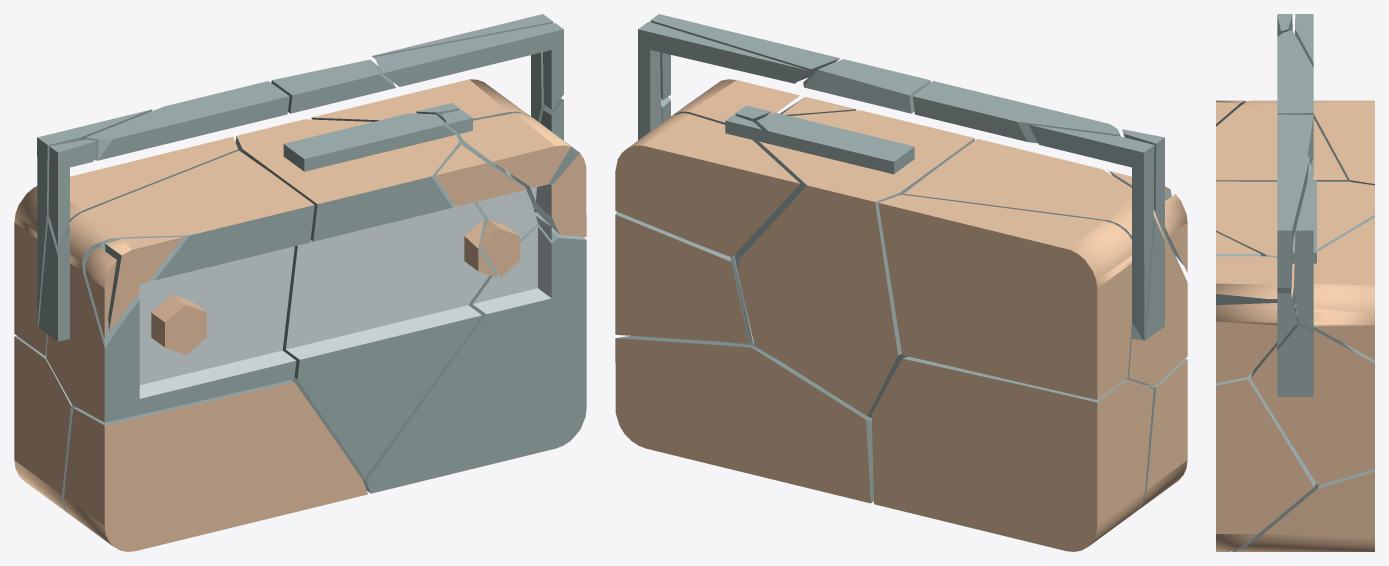
Rendered from radio_broken.glb.
The picture shows the model from 3 angles, left to right: view 1: azimuth 30°, elevation 25°; view 2: azimuth 150°, elevation 25°; view 3: azimuth 270°, elevation 25°; orthographic projection. The views are drawn at different scales.
Parts seen in each view (by area): view 1: radio(Clone)_cell.002, radio(Clone)_cell.005, radio(Clone)_cell.004, radio(Clone)_cell.009, radio(Clone)_cell.001, radio(Clone)_cell.012, radio(Clone)_cell.017, radio(Clone)_cell.014, radio(Clone)_cell.007, radio(Clone)_cell.008, radio(Clone)_cell, radio(Clone)_cell.010 (+4 smaller); view 2: radio(Clone)_cell.001, radio(Clone)_cell.012, radio(Clone)_cell.002, radio(Clone)_cell.006, radio(Clone)_cell.007, radio(Clone)_cell.005, radio(Clone)_cell.011, radio(Clone)_cell.017, radio(Clone)_cell.004, radio(Clone)_cell.015, radio(Clone)_cell.014, radio(Clone)_cell (+3 smaller); view 3: radio(Clone)_cell.011, radio(Clone)_cell.009, radio(Clone)_cell.007, radio(Clone)_cell.002, radio(Clone)_cell.006, radio(Clone)_cell.005, radio(Clone)_cell.010, radio(Clone)_cell.001, radio(Clone)_cell, radio(Clone)_cell.014, radio(Clone)_cell.017, radio(Clone)_cell.015 (+3 smaller).
Part boxes in pixels (<box>): radio(Clone)_cell.002: <box>235,113,498,477</box>; radio(Clone)_cell.005: <box>38,150,314,422</box>; radio(Clone)_cell.004: <box>64,380,367,551</box>; radio(Clone)_cell.009: <box>358,212,586,493</box>; radio(Clone)_cell.001: <box>14,109,238,355</box>; radio(Clone)_cell.012: <box>14,336,75,513</box>; radio(Clone)_cell.017: <box>85,81,289,160</box>; radio(Clone)_cell.014: <box>374,23,563,109</box>; radio(Clone)_cell.007: <box>311,14,553,122</box>; radio(Clone)_cell.008: <box>436,144,551,276</box>; radio(Clone)_cell: <box>442,110,570,187</box>; radio(Clone)_cell.010: <box>509,98,586,237</box>; radio(Clone)_cell.001: <box>878,124,1154,399</box>; radio(Clone)_cell.012: <box>871,356,1153,551</box>; radio(Clone)_cell.002: <box>734,110,974,417</box>; radio(Clone)_cell.006: <box>615,336,873,503</box>; radio(Clone)_cell.007: <box>615,21,809,257</box>; radio(Clone)_cell.005: <box>903,139,1187,386</box>; radio(Clone)_cell.011: <box>615,212,749,343</box>; radio(Clone)_cell.017: <box>913,81,1120,143</box>; radio(Clone)_cell.004: <box>1133,359,1187,513</box>; radio(Clone)_cell.015: <box>803,59,930,113</box>; radio(Clone)_cell.014: <box>650,14,839,99</box>; radio(Clone)_cell: <box>673,79,799,124</box>; radio(Clone)_cell.011: <box>1250,307,1374,485</box>; radio(Clone)_cell.009: <box>1216,371,1315,551</box>; radio(Clone)_cell.007: <box>1294,158,1374,359</box>; radio(Clone)_cell.002: <box>1216,180,1374,351</box>; radio(Clone)_cell.006: <box>1231,469,1374,551</box>; radio(Clone)_cell.005: <box>1216,100,1347,181</box>; radio(Clone)_cell.010: <box>1216,293,1296,383</box>; radio(Clone)_cell.001: <box>1295,14,1374,185</box>; radio(Clone)_cell: <box>1216,243,1295,307</box>; radio(Clone)_cell.014: <box>1277,153,1309,293</box>; radio(Clone)_cell.017: <box>1277,30,1313,114</box>; radio(Clone)_cell.015: <box>1277,114,1313,176</box>.
Size of the model in its own units: 0.315 by 0.2282 by 0.0975.
